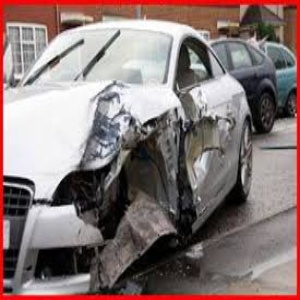bumper: (43, 182, 165, 296)
